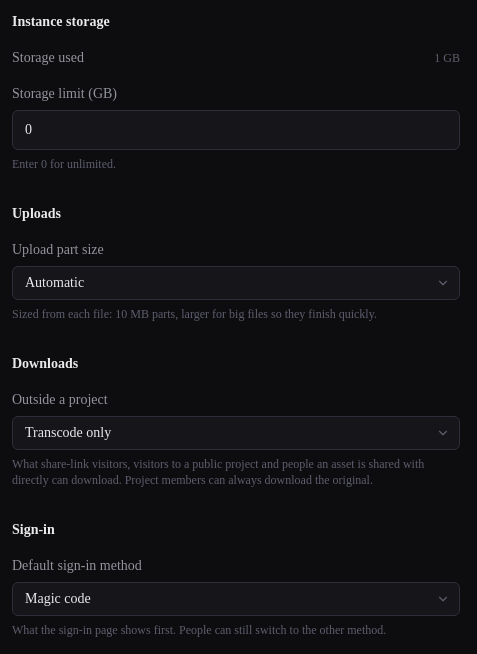
Test: InstanceSettingsTab › sign-in method › reverts to the saved value and shows the error when the save fails
Select "Email & password" in the dropdown labelled "Default sign-in method" at (236, 599), box [12,582,460,616]
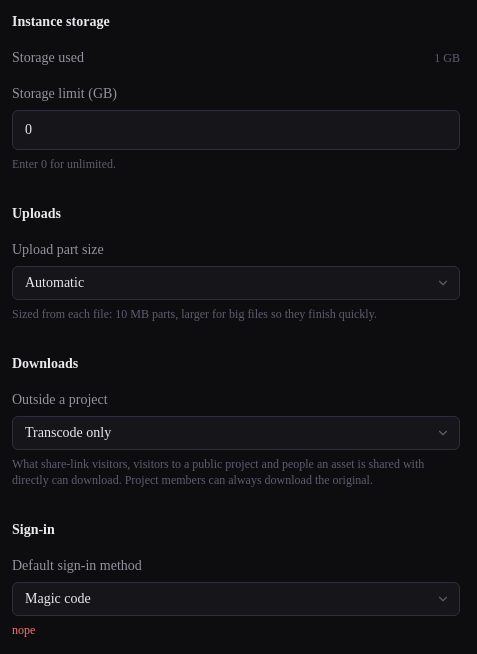
Expected: the text "nope" is shown, [12,623,35,637]
